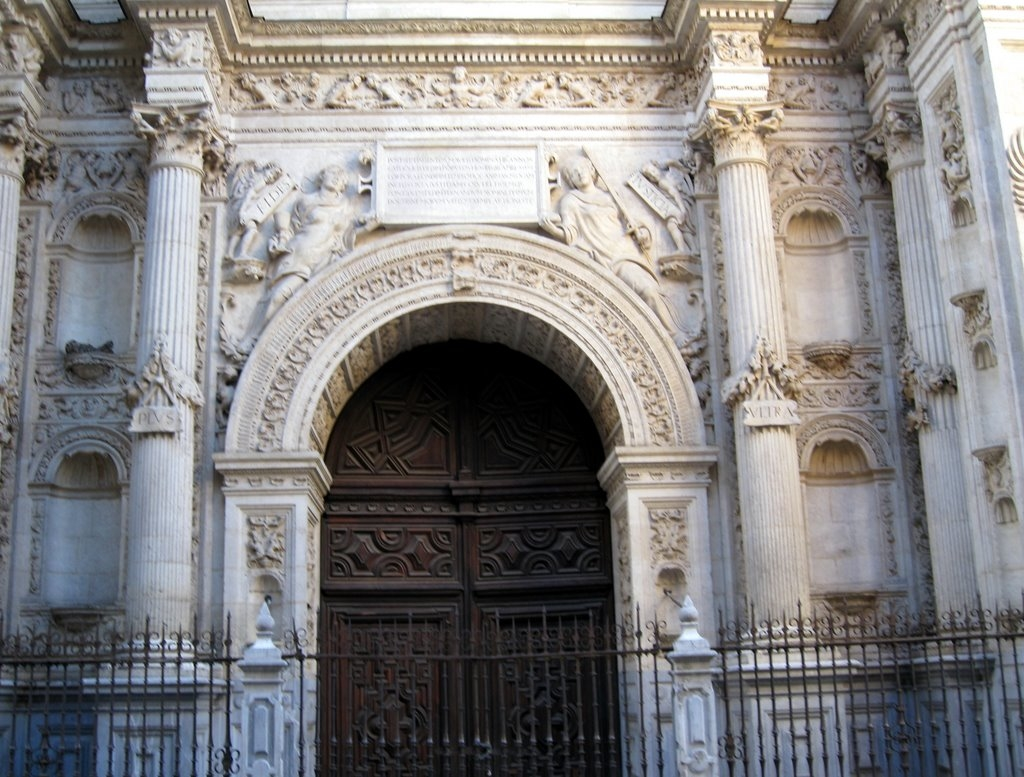arco-medio-punto: (293, 288, 642, 506)
